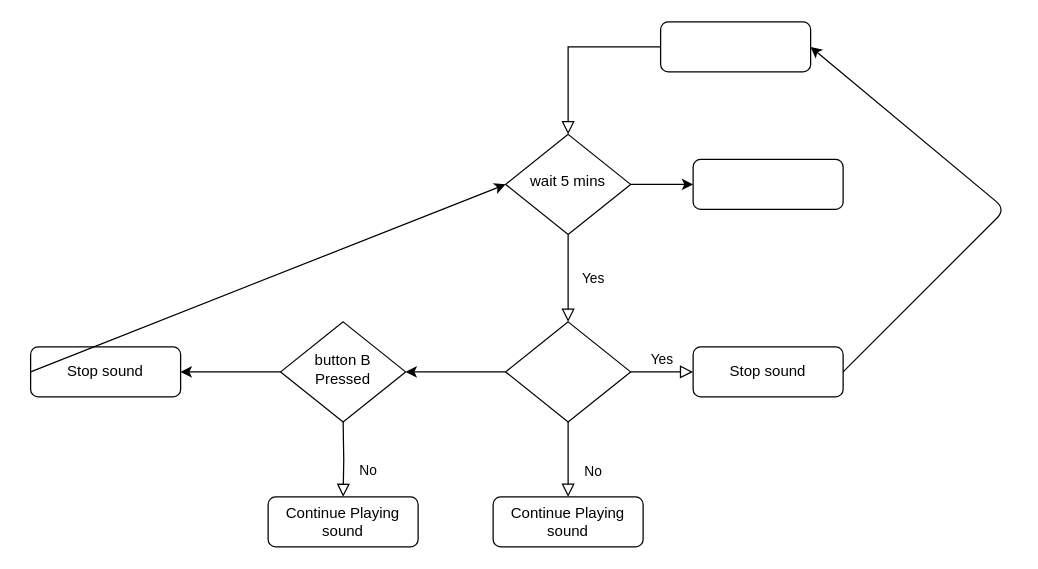
Some shapes in this 1038 by 569 pixel diagram are drawn without their labels. Each missing label, with the centre of its shape:
button a Pressed: point 567,371
On start: point 735,46
play sound: point 767,183
